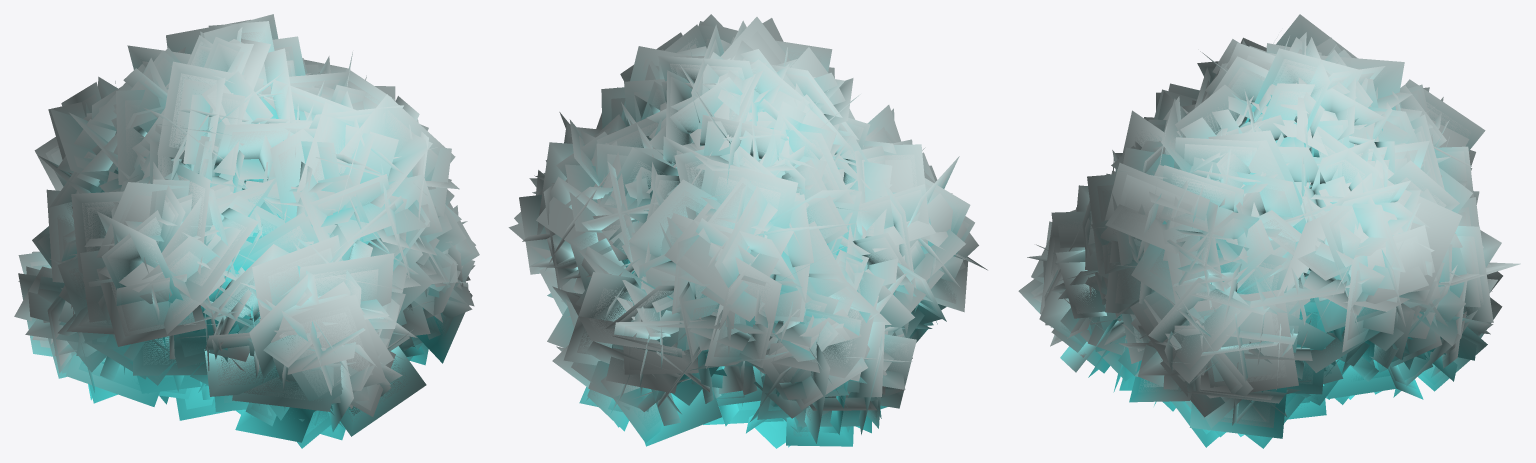
Rendered from Bush_Hero.fbx.
The picture shows the model from 3 angles, left to right: view 1: azimuth 30°, elevation 25°; view 2: azimuth 150°, elevation 25°; view 3: azimuth 270°, elevation 25°; orthographic projection. The views are drawn at different scales.
Visible parts, largest first — view 1: LOD0; view 2: LOD0; view 3: LOD0.
Part boxes in pixels (x1,y1,x2,y2): LOD0: [14, 14, 479, 448]; LOD0: [508, 14, 987, 448]; LOD0: [1018, 14, 1520, 448].
Size of the model in its own units: 726 by 641 by 818.
